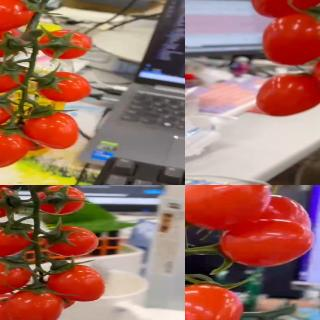tomato: (204, 194, 318, 238), (220, 219, 317, 266), (185, 185, 268, 232), (262, 8, 320, 64), (257, 72, 320, 118), (45, 264, 106, 302), (22, 110, 79, 148), (185, 284, 244, 320), (36, 70, 92, 102), (42, 226, 98, 258), (4, 290, 62, 320), (37, 31, 93, 60), (36, 185, 86, 216), (0, 129, 35, 168), (0, 0, 37, 34), (0, 259, 32, 296), (251, 0, 320, 17), (0, 224, 32, 258), (0, 61, 28, 95), (0, 293, 31, 320), (0, 28, 24, 60), (0, 187, 21, 221), (0, 96, 14, 130)
